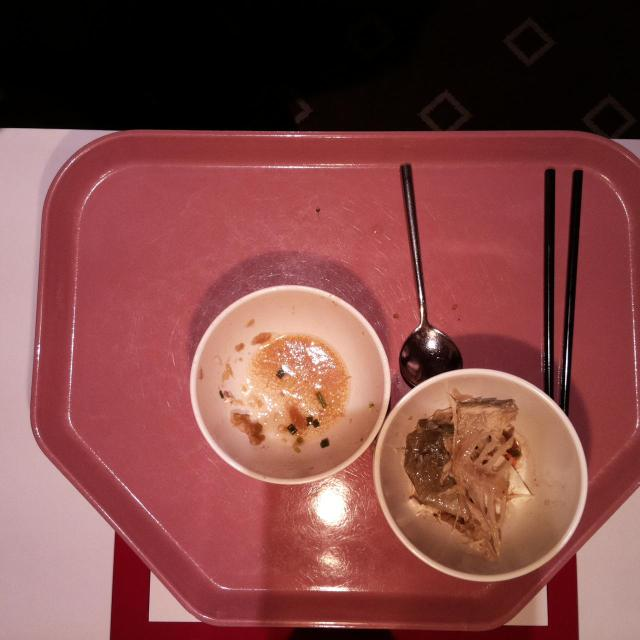Bone-fish: (435, 398, 518, 562)
